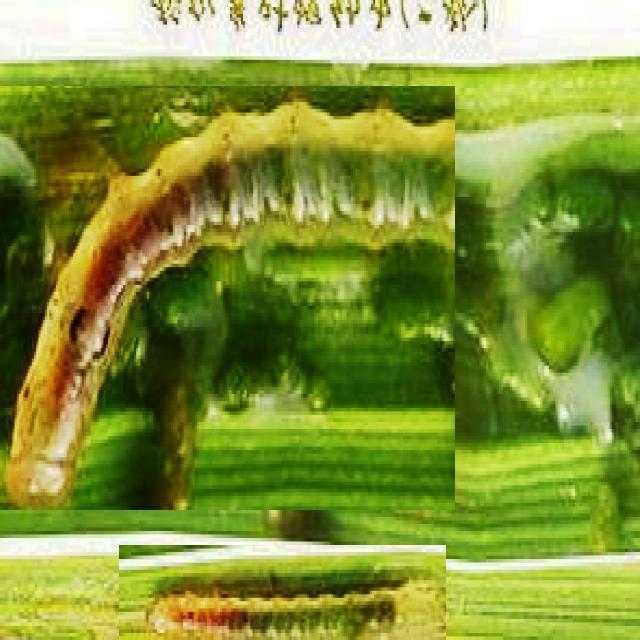leaf-folder: (0, 86, 455, 510), (119, 545, 446, 640)
